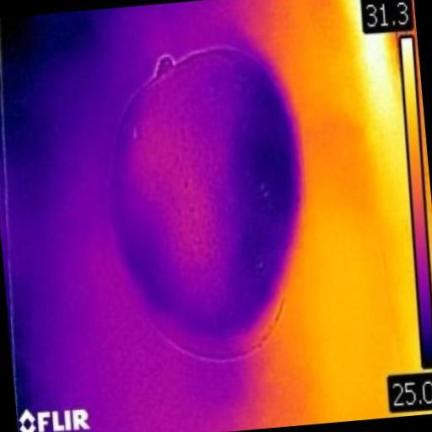mango: (113, 49, 298, 358)
